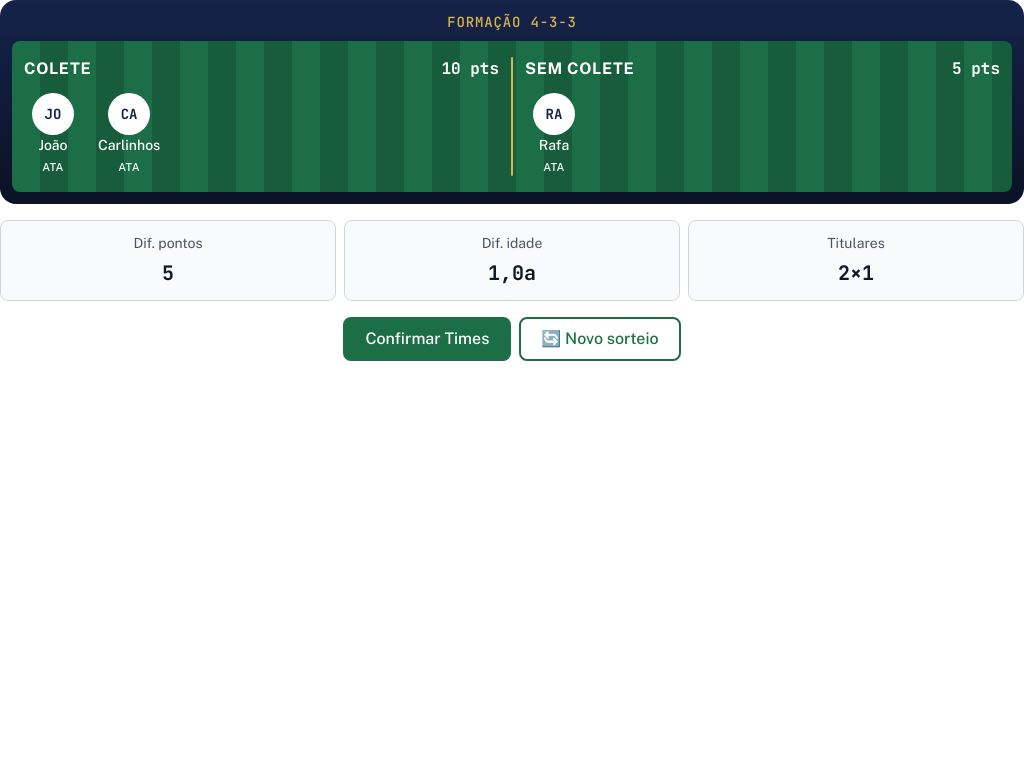
TimesResultado › clicar em um PlayerChip abre o modal de seleção com candidatos do outro time
Step 1. Click the button with aria-label "Trocar João, nível técnico 6" → (53, 123), box [24, 89, 82, 157]
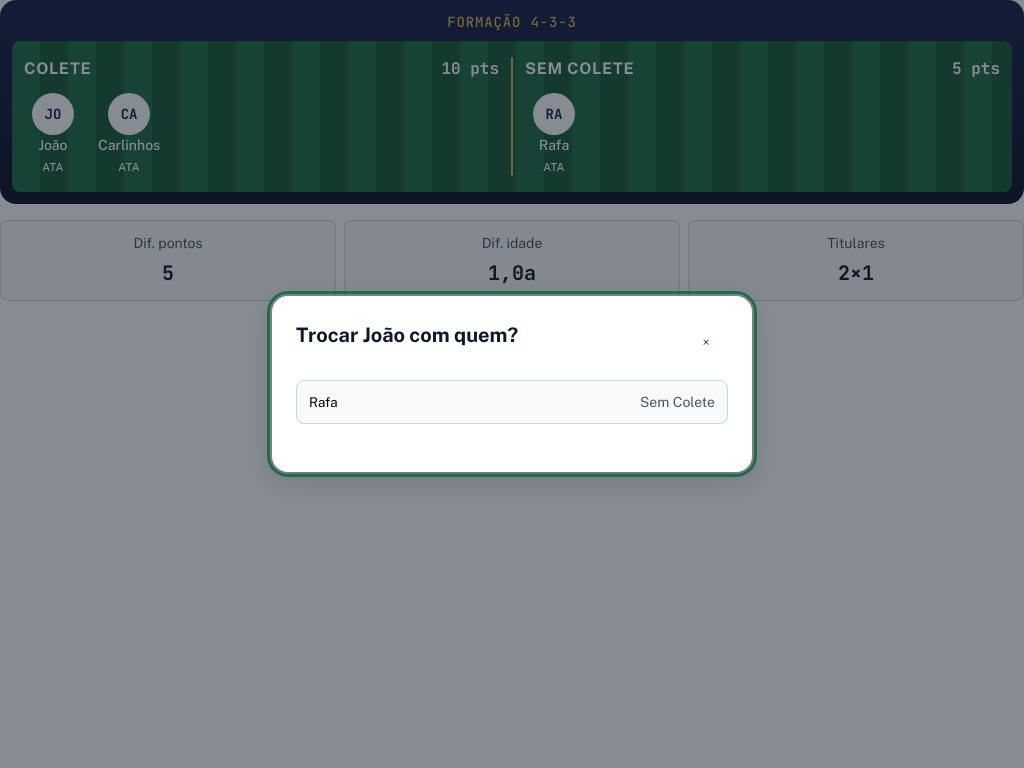
Result: the dialog "Trocar João com quem?" is shown at [272, 296, 752, 472]
Result: the button "Rafa Sem Colete" is shown at [296, 380, 728, 424]
